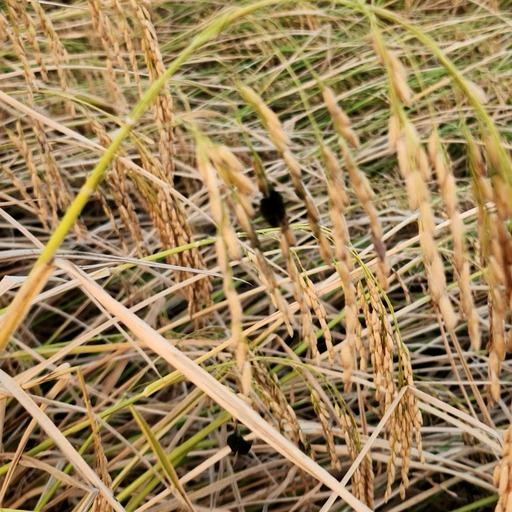Leaf_Scald: (254, 184, 294, 228), (226, 427, 254, 461)
